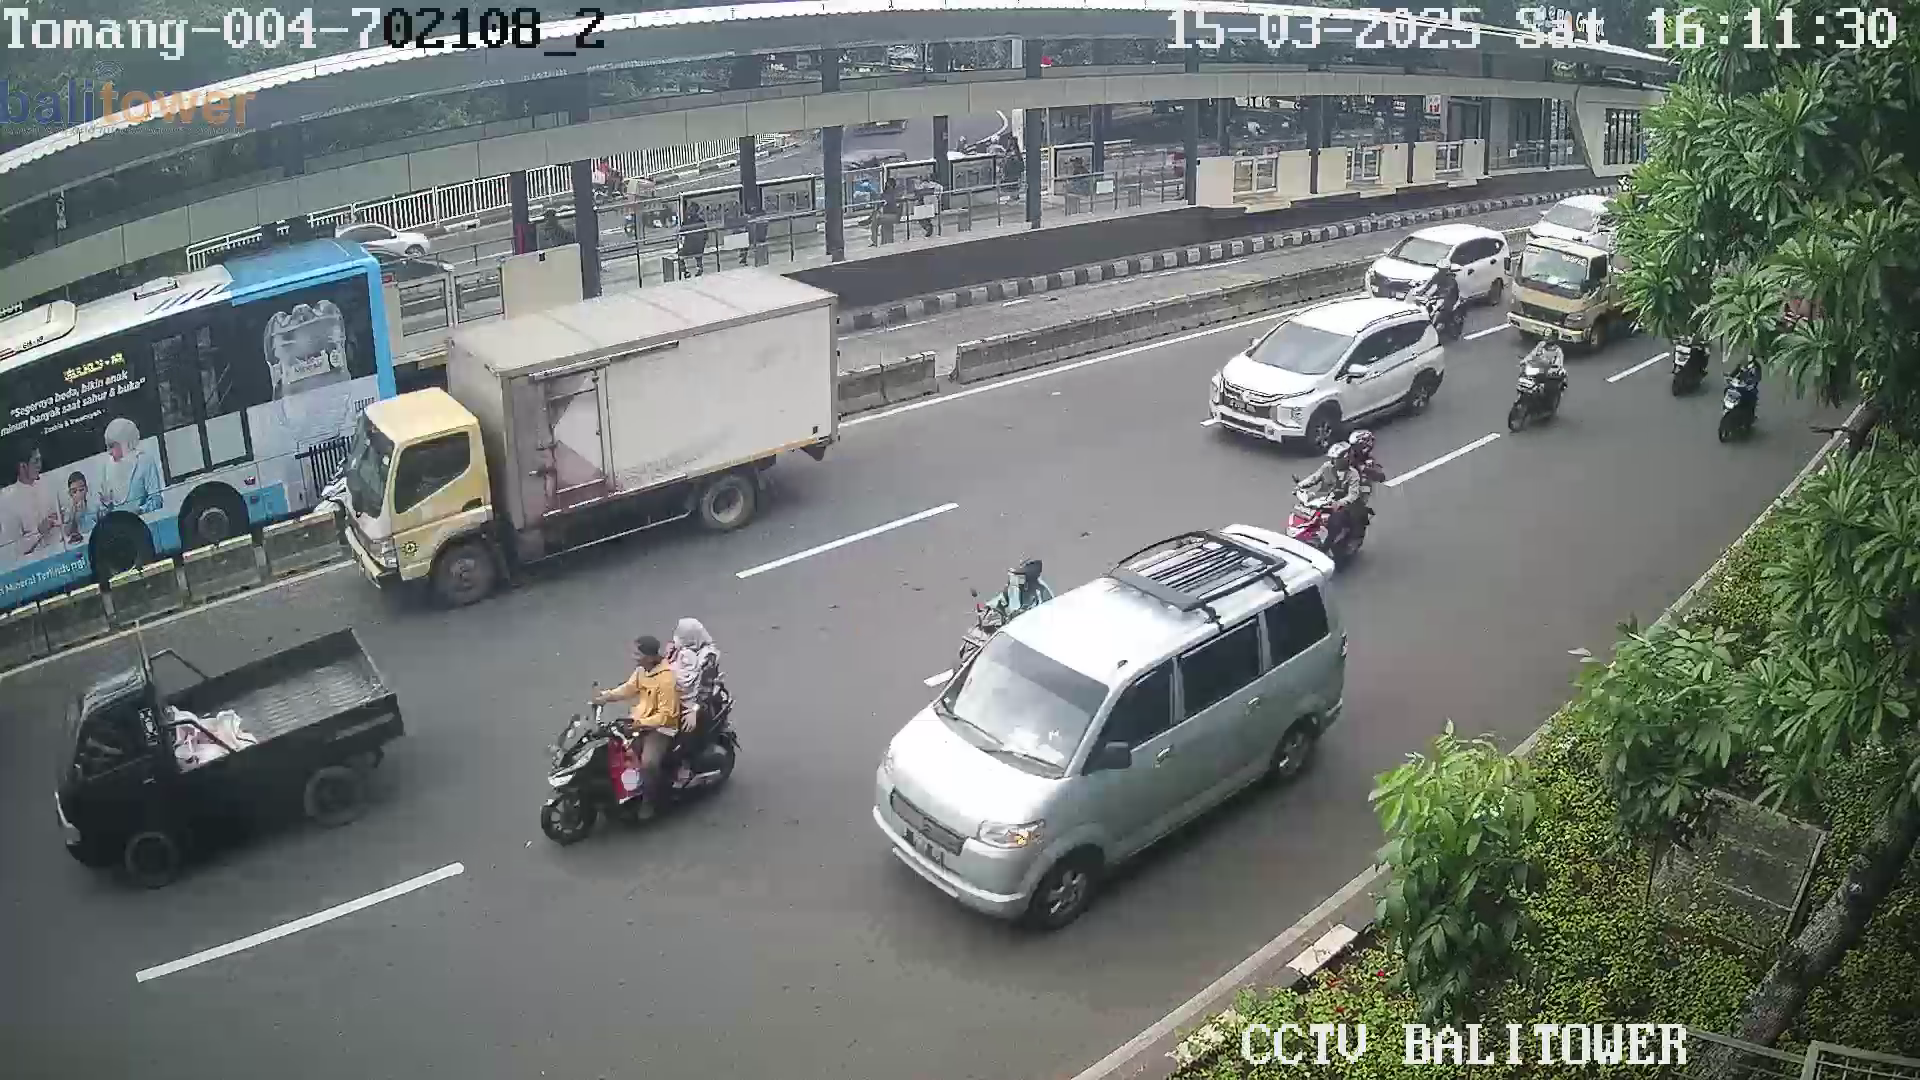half-face helmet: (1004, 549, 1045, 590), (1319, 441, 1357, 476), (1353, 429, 1384, 459)
no helmet: (631, 627, 668, 690)
